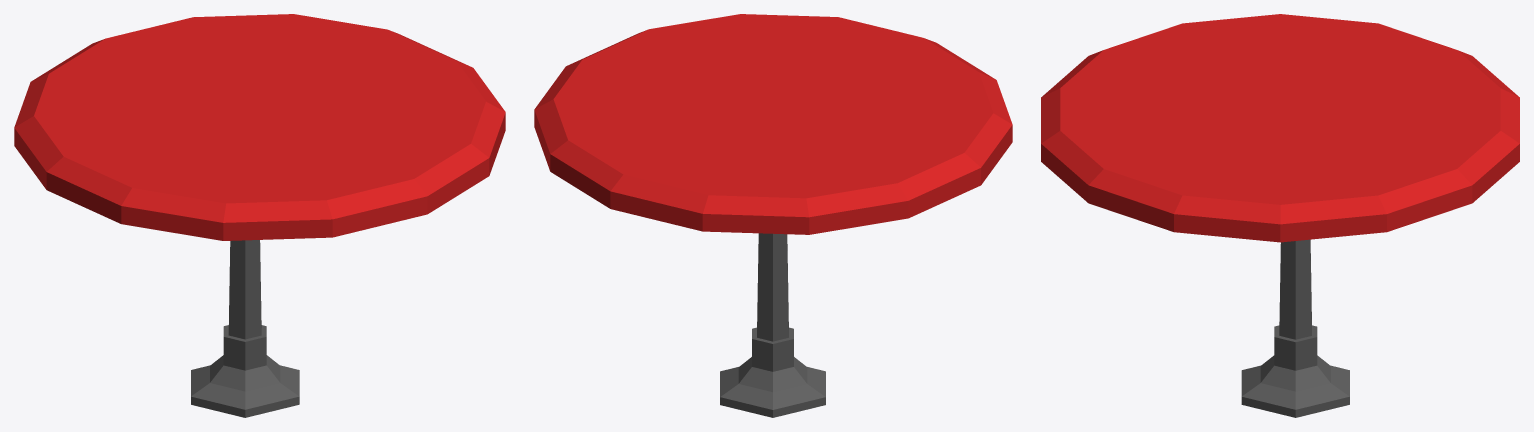
File: SM_table_cafe_park.fbx
The picture shows the model from 3 angles, left to right: view 1: azimuth 30°, elevation 25°; view 2: azimuth 150°, elevation 25°; view 3: azimuth 270°, elevation 25°; orthographic projection. The views are drawn at different scales.
Parts seen in each view (by area): view 1: Cylinder112; view 2: Cylinder112; view 3: Cylinder112.
Part boxes in pixels (x1,y1,x2,y2): Cylinder112: [14, 14, 505, 417]; Cylinder112: [534, 14, 1012, 417]; Cylinder112: [1041, 14, 1519, 417].
Size of the model in its own units: 54.34 by 34.87 by 52.98.
